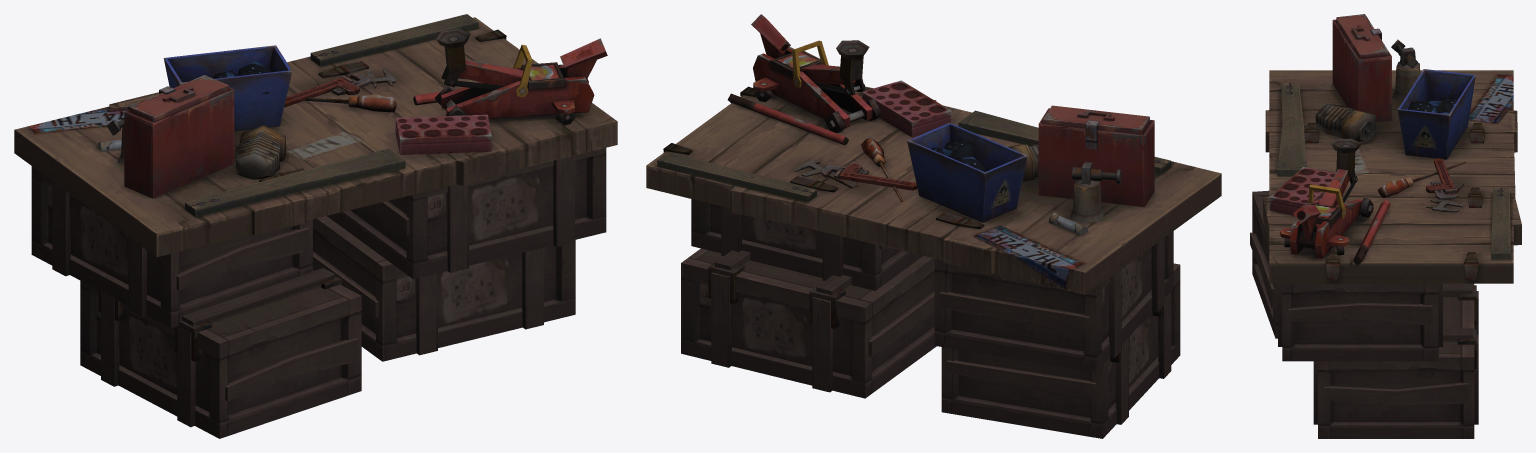
File: PickupRepair.FBX
3 renders of one model, left to right at view 1: azimuth 30°, elevation 25°; view 2: azimuth 150°, elevation 25°; view 3: azimuth 270°, elevation 25°, orthographic. The views are drawn at different scales.
Parts seen in each view (by area): view 1: PickupRepair; view 2: PickupRepair; view 3: PickupRepair.
Part boxes in pixels (x1,y1,x2,y2): PickupRepair: (14,14,617,438); PickupRepair: (646,14,1221,438); PickupRepair: (1250,14,1521,438).
Bounding box in the file's own units: 1.92 × 1.15 × 1.12.
1 material, 1 textured.
